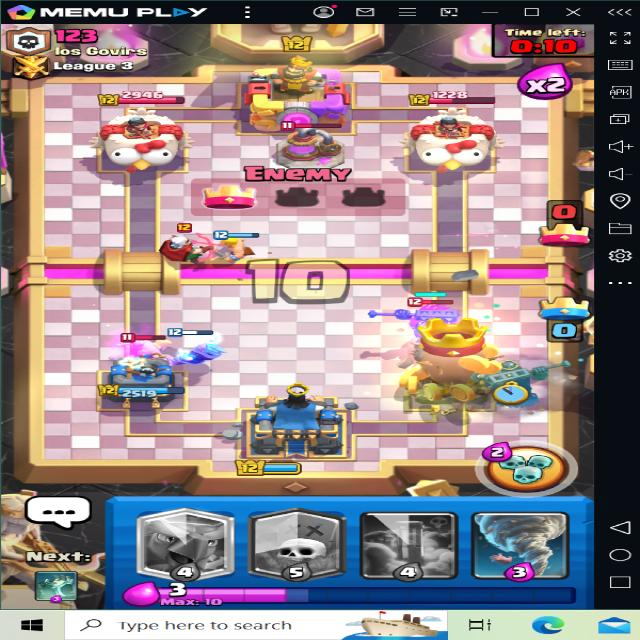Barbarian: (128, 329, 180, 363)
Marcher: (147, 221, 206, 269)
Pump: (258, 125, 358, 180)
skellyking: (378, 294, 472, 357)
